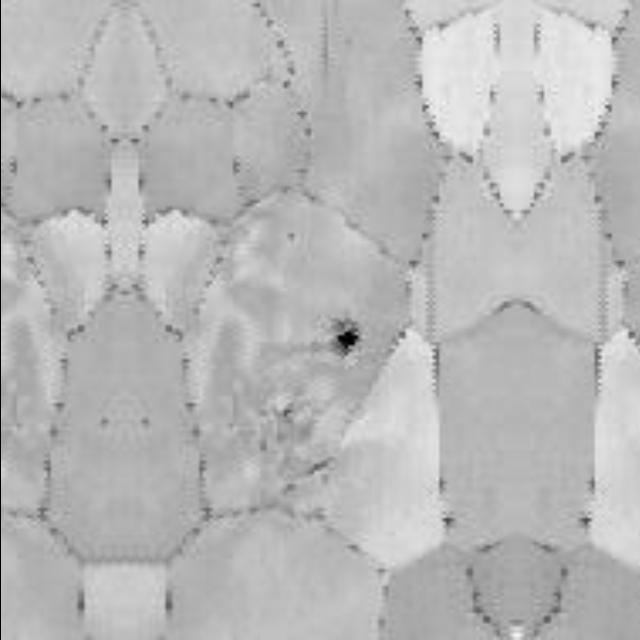good_void: (326, 316, 359, 356)
